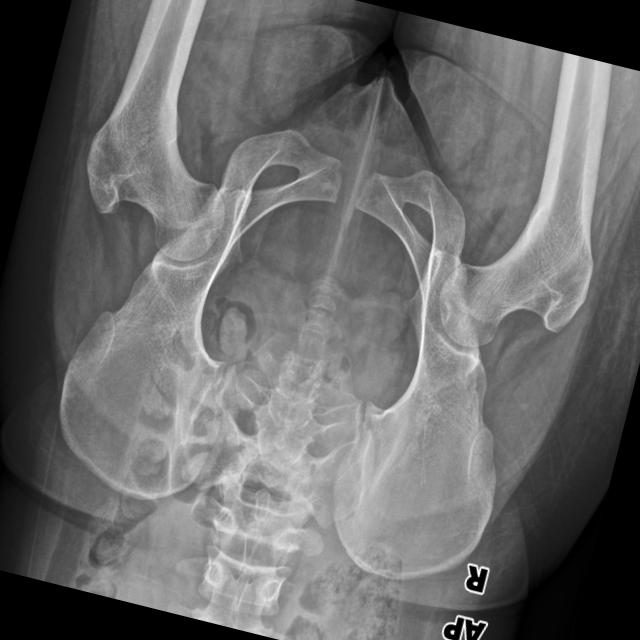normal-left: (85, 0, 223, 259)
normal-right: (439, 52, 611, 346)
